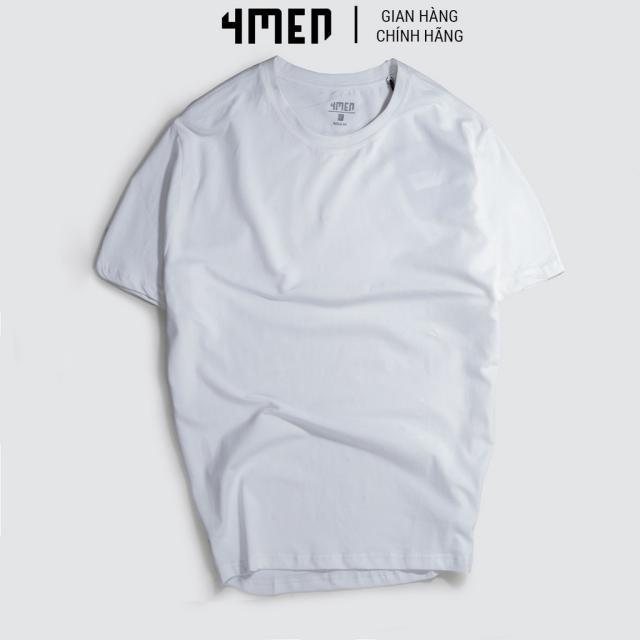Shirt: (96, 52, 566, 603)
